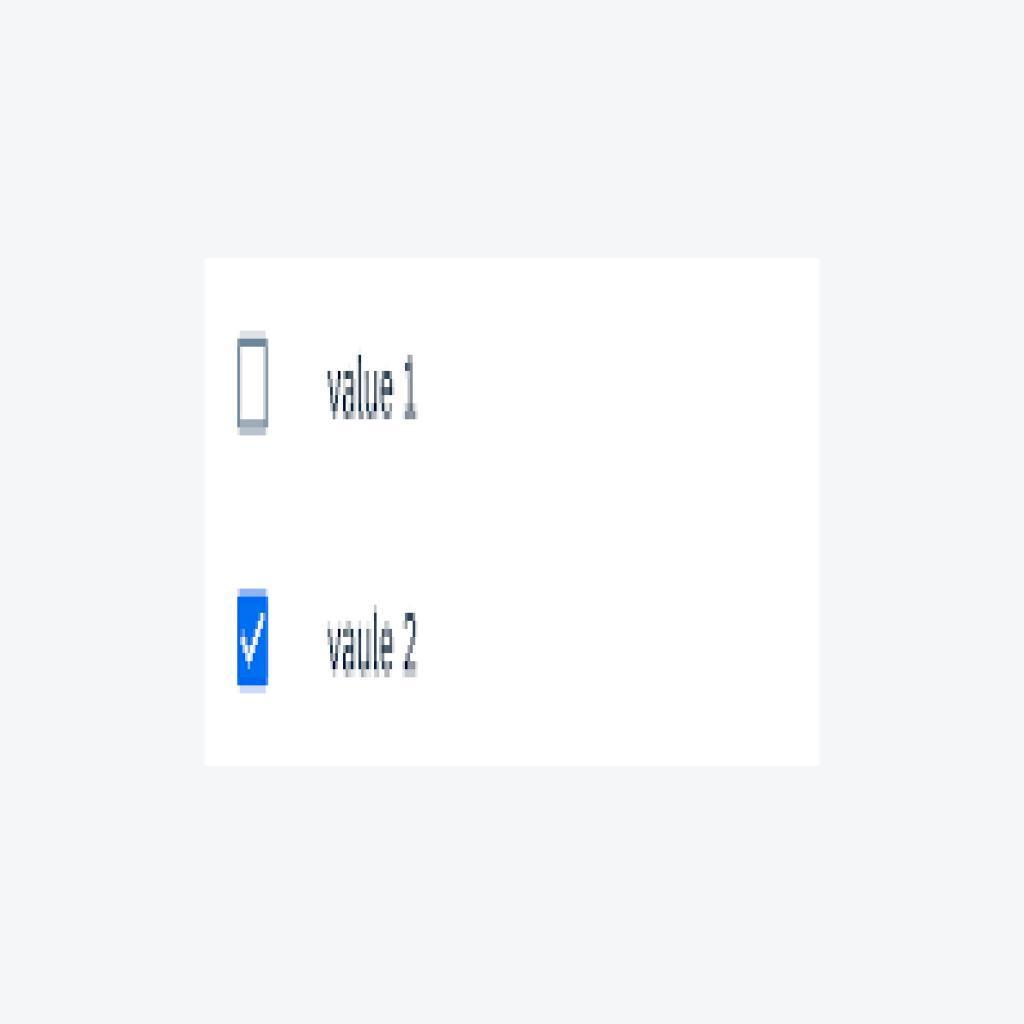checkbox: (235, 337, 271, 429), (240, 592, 268, 690)
